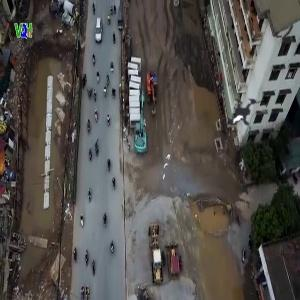drone: (202, 71, 282, 151)
